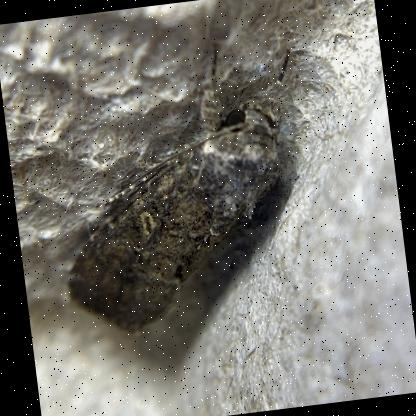Fall Armyworm Moth: (32, 29, 326, 352)
